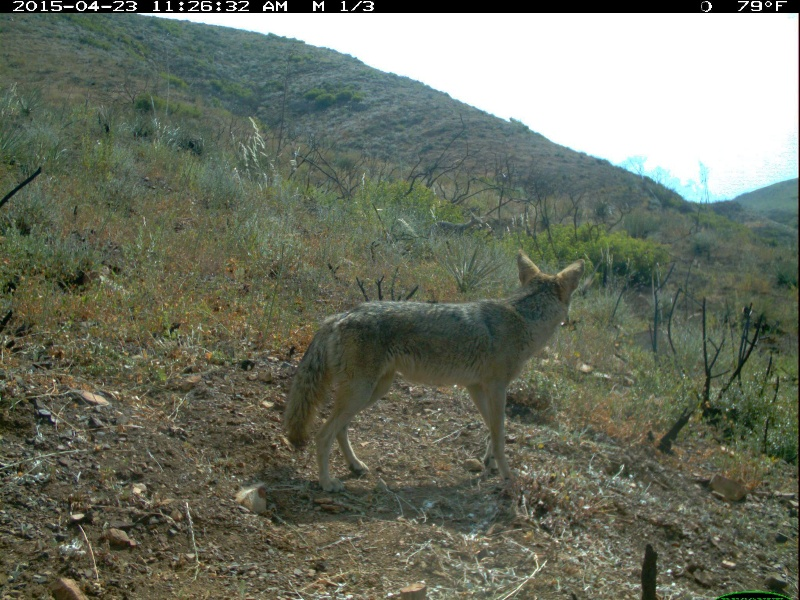coyote: (280, 249, 586, 500)
